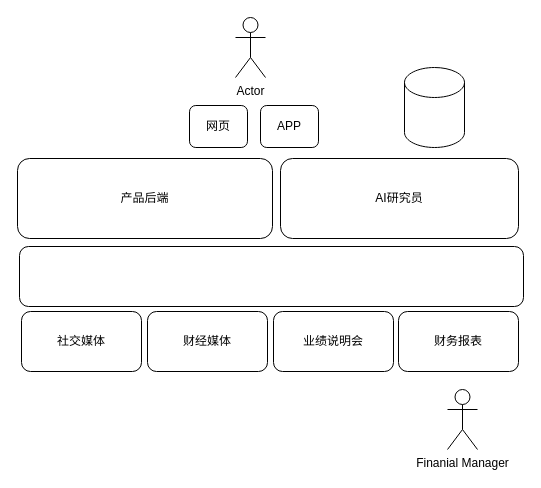
The diagram is 541 pixels wide and 488 high, and some of its shapes have lost their labels. The shapes that lost their labels are listed below. From the top down, each one's box as (x1, y1, x2, y2) in pixels, then its label:
(404, 66, 464, 148): B端
(18, 246, 524, 306): 数据层
